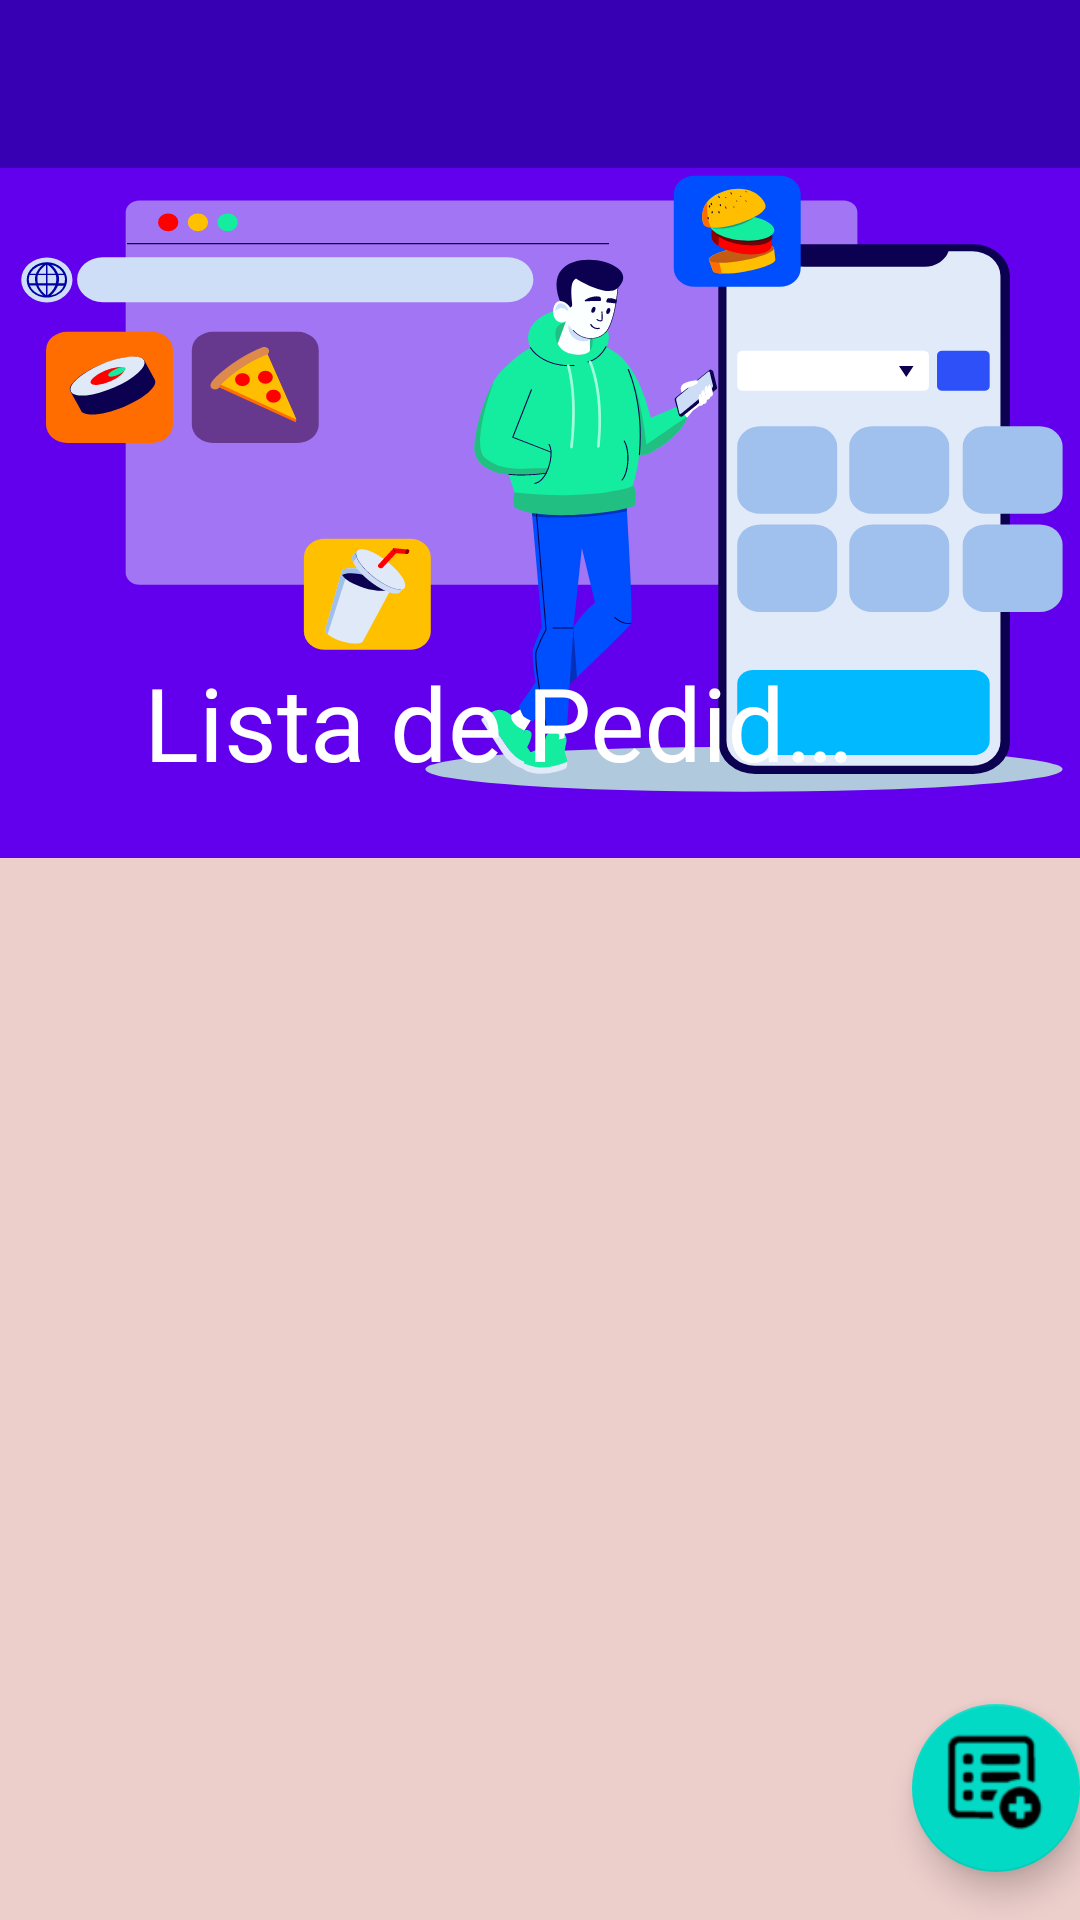

Named icons in this screenshot (1080x1920) and their centers, (x=x, y=y):
nuevo pedido: (x=996, y=1788)
